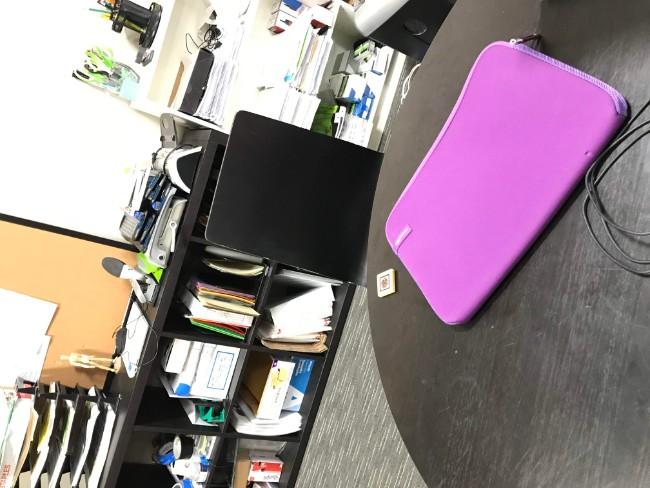cookie: (375, 273, 393, 294)
